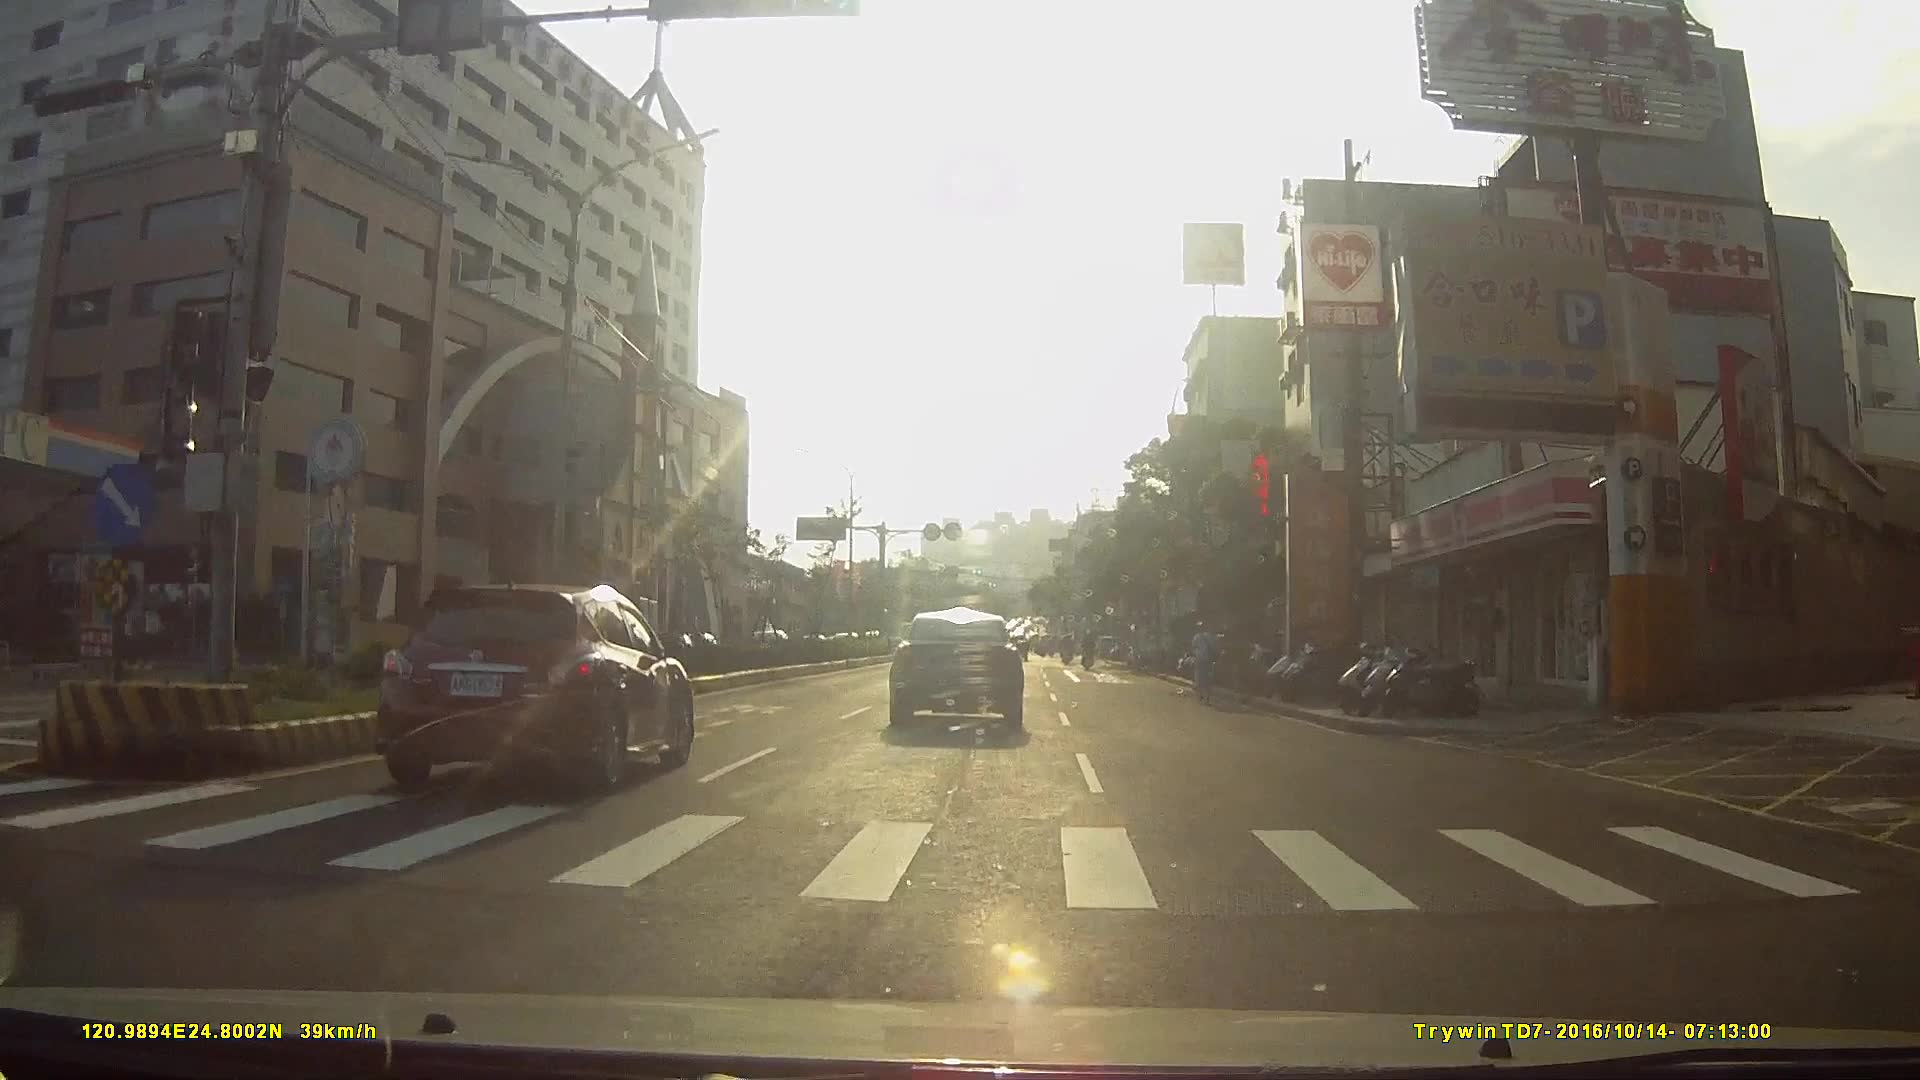rider: (1188, 618, 1222, 705)
vehicle: (367, 576, 703, 802), (886, 609, 1036, 740), (763, 607, 822, 662), (1127, 621, 1178, 674)
